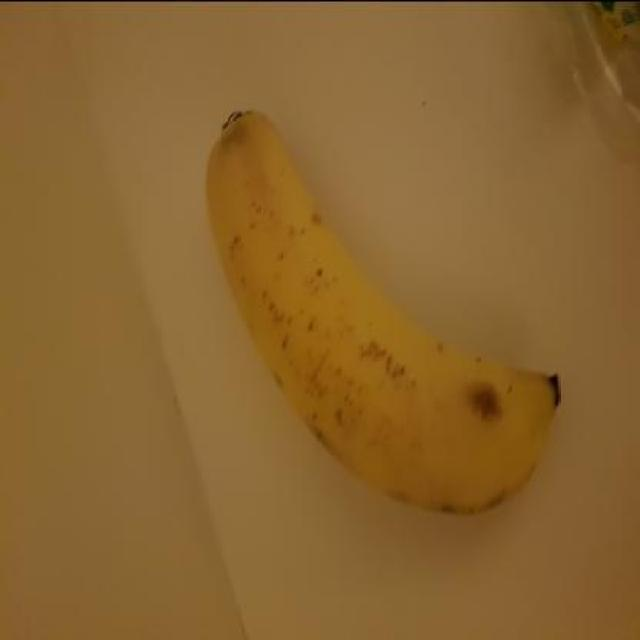Banana: (188, 102, 570, 527)
